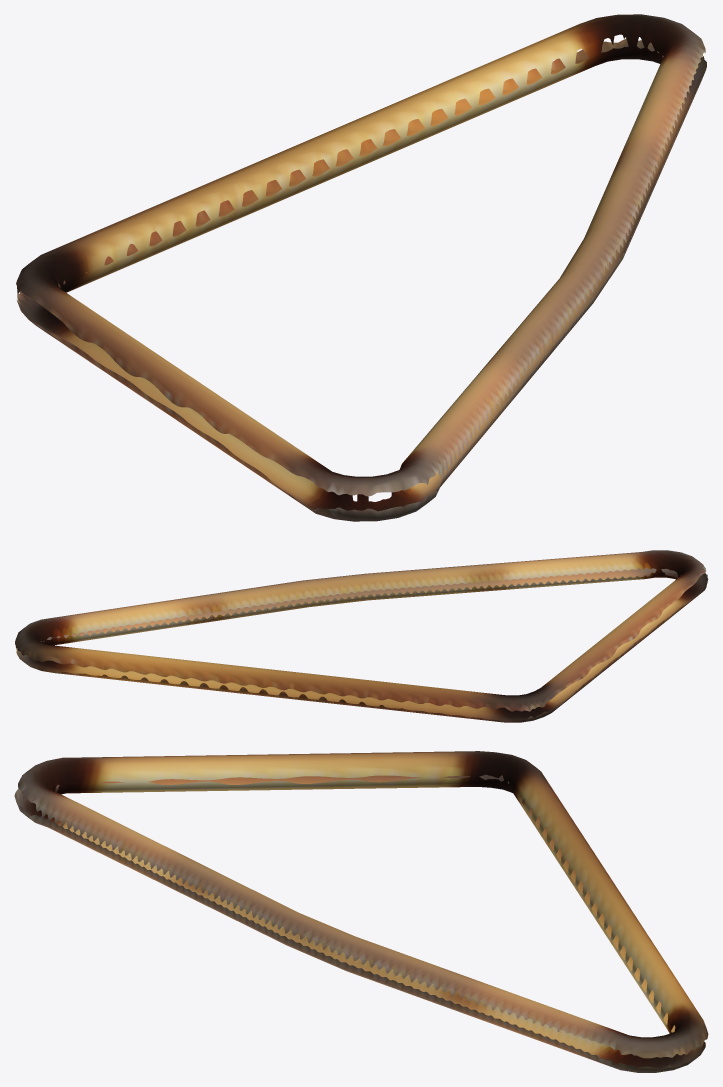
File: rsling2.fbx
3 renders of one model, top to bottom at view 1: azimuth 30°, elevation 25°; view 2: azimuth 150°, elevation 25°; view 3: azimuth 270°, elevation 25°, orthographic. The views are drawn at different scales.
Visible parts, largest first — view 1: rsling2; view 2: rsling2; view 3: rsling2.
Boxes of the visible parts, x1,y1,x2,y2 form: rsling2: [16, 14, 706, 521]; rsling2: [15, 550, 708, 722]; rsling2: [14, 751, 708, 1072].
Size of the model in its own units: 10.03 by 0.5054 by 9.78.
Materials: 1 (1 with a texture image).
